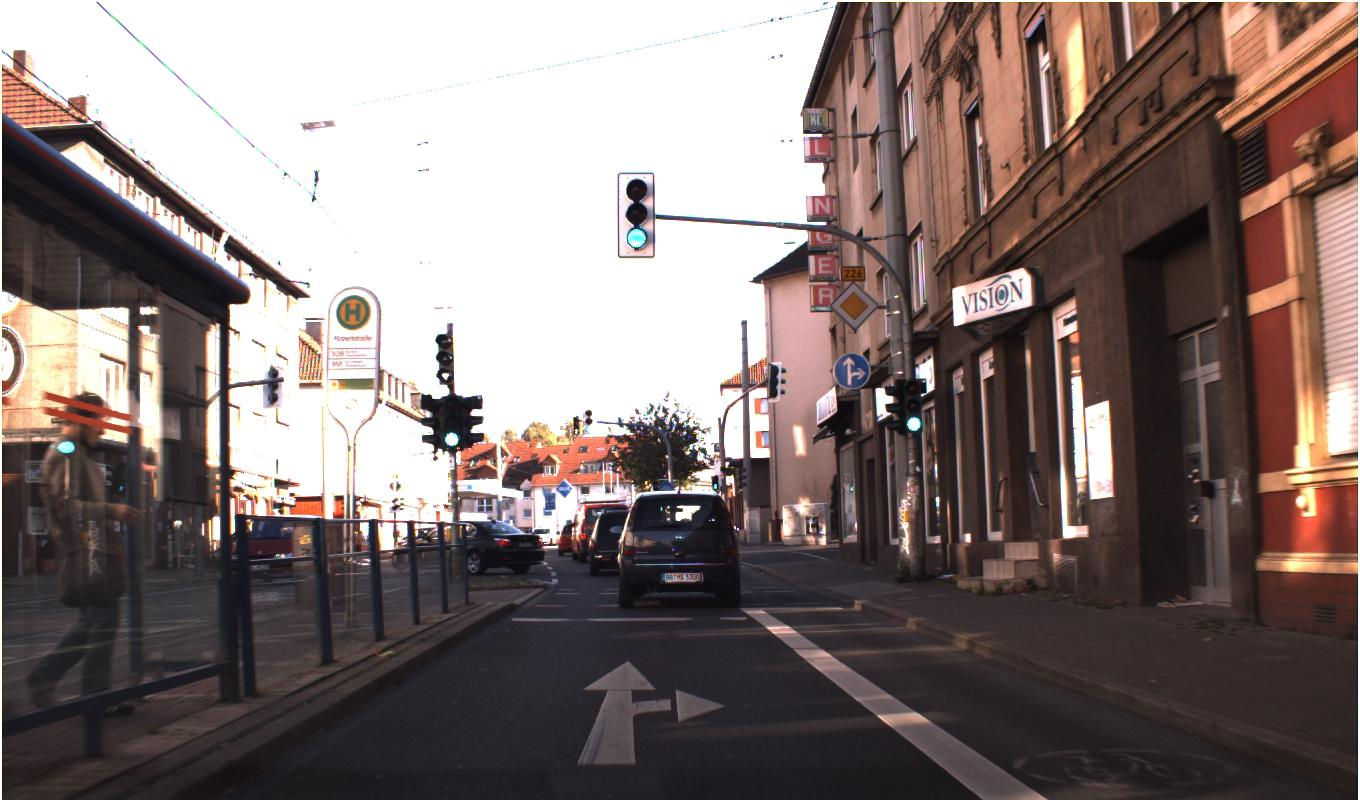mandatory: (833, 352, 870, 389)
sign: (829, 281, 879, 331)
